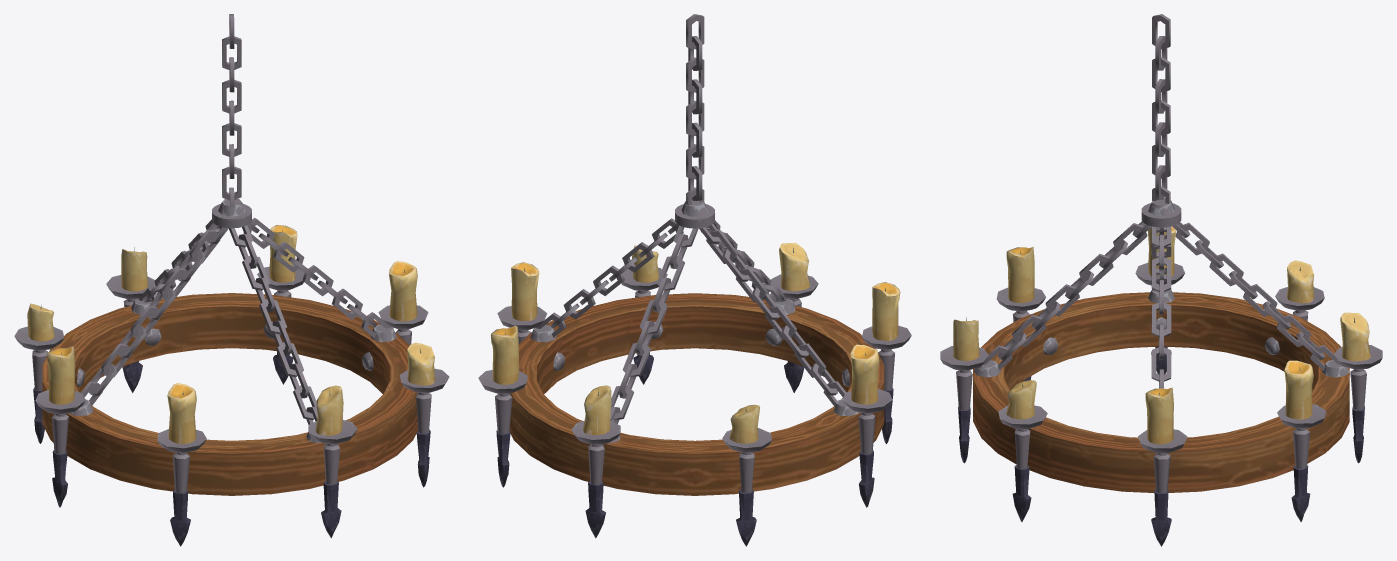
File: Chandelier.gltf
The picture shows the model from 3 angles, left to right: view 1: azimuth 30°, elevation 25°; view 2: azimuth 150°, elevation 25°; view 3: azimuth 270°, elevation 25°; orthographic projection.
Parts seen in each view (by area): view 1: Chandelier; view 2: Chandelier; view 3: Chandelier.
Boxes of the visible parts, x1,y1,x2,y2 form: Chandelier: (14,14,449,546); Chandelier: (478,14,911,546); Chandelier: (940,14,1382,546).
Bounding box in the file's own units: 1.3 × 1.46 × 1.3.
3 materials, 3 textured.
